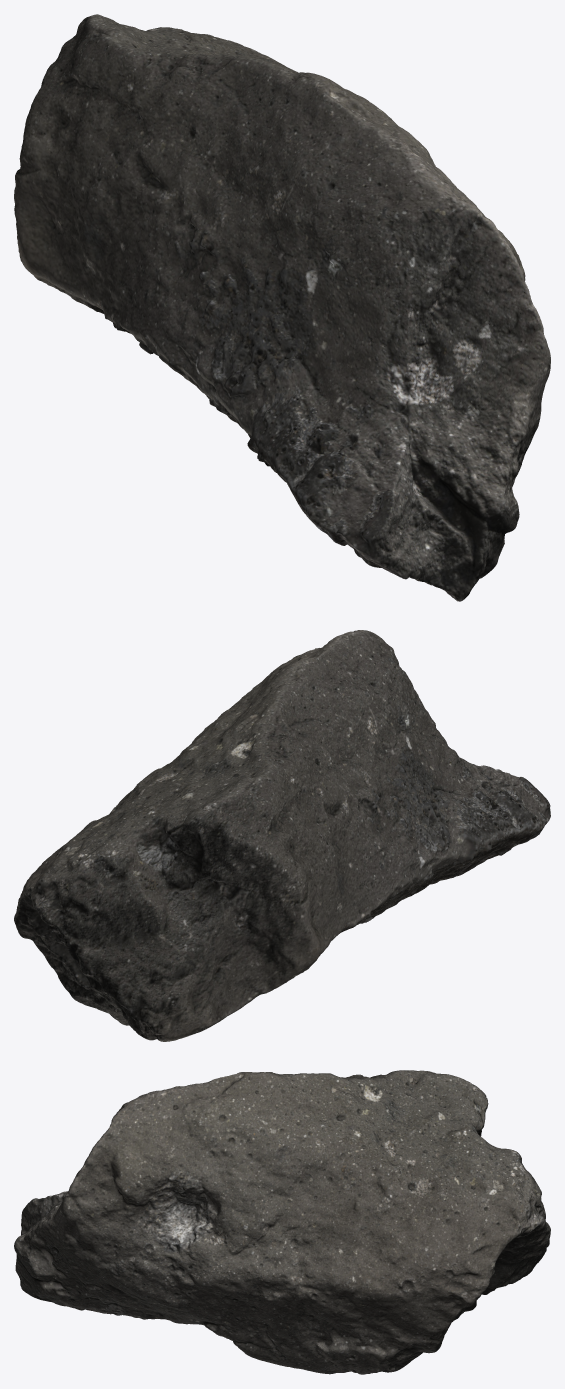
The model's file is apollo_lunar_sample_702950.glb.
The picture shows the model from 3 angles, top to bottom: view 1: azimuth 30°, elevation 25°; view 2: azimuth 150°, elevation 25°; view 3: azimuth 270°, elevation 25°; orthographic projection. The views are drawn at different scales.
Visible parts, largest first — view 1: Object_2, Object_3; view 2: Object_3, Object_2; view 3: Object_2, Object_3.
Part boxes in pixels (x1,y1,x2,y2): Object_2: (14, 28, 550, 601); Object_3: (14, 14, 550, 600); Object_3: (14, 630, 550, 1041); Object_2: (54, 642, 550, 993); Object_2: (14, 1070, 484, 1374); Object_3: (15, 1071, 550, 1374).
Size of the model in its own units: 0.0539 by 0.0614 by 0.1117.
Materials: 1 (1 with a texture image).
